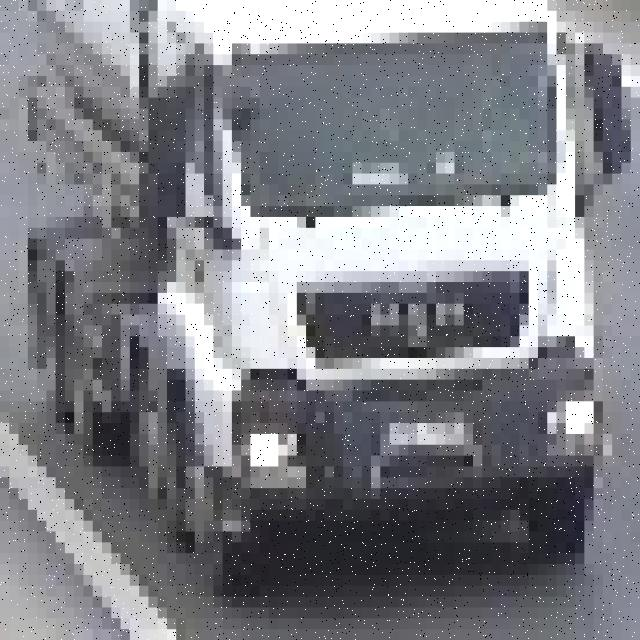truck: (28, 0, 631, 575)
